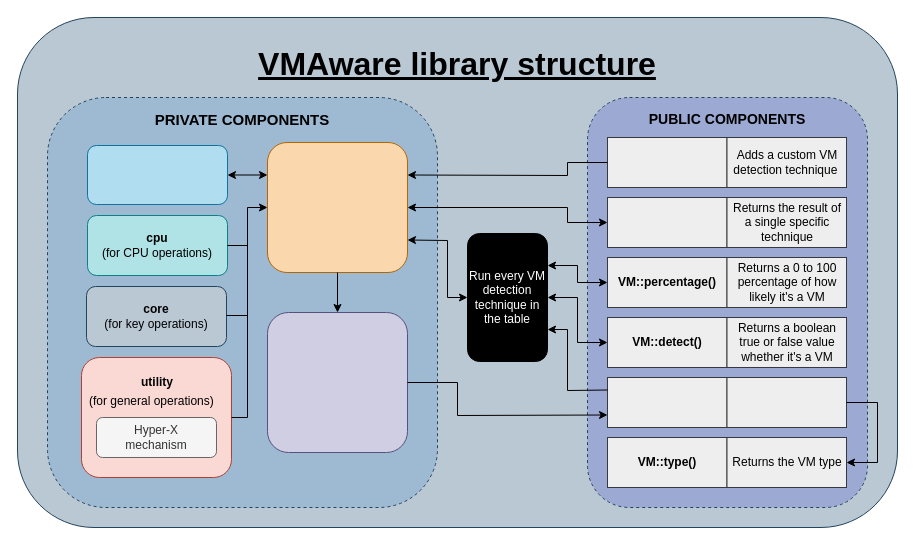
Some shapes in this 915 by 545 pixel diagram are drawn without their labels. Each missing label, with the centre of its shape:
brand table (stores a scoreboard table of every VM brand): (337,382)
memoization (for caching operations): (157,174)
Returns the most likely VM brand: (786,402)
technique table (stores all the VM detection techniques): (337,207)
VM::add_custom(): (666,162)
VM::brand(): (666,402)
VM::check(): (666,222)
